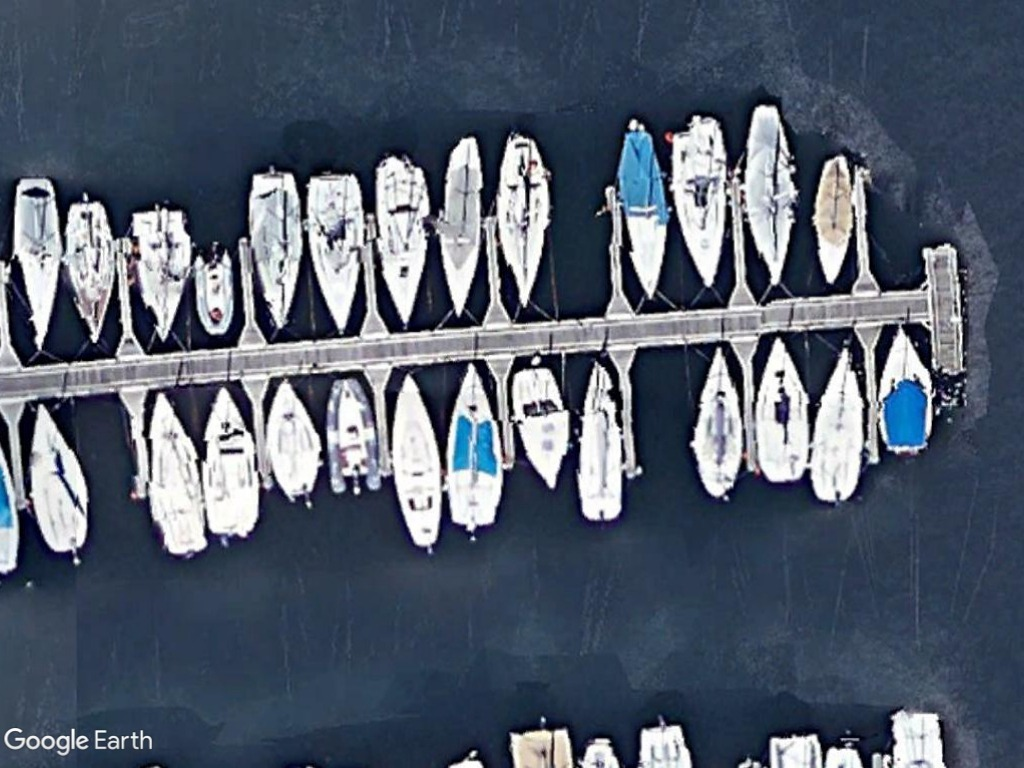boat: (667, 108, 733, 293), (491, 125, 554, 317), (364, 145, 429, 327), (24, 397, 95, 562), (739, 98, 799, 290), (430, 130, 487, 327), (303, 170, 370, 337), (613, 118, 673, 304), (243, 167, 307, 336), (444, 361, 507, 530), (148, 389, 211, 557), (803, 337, 863, 509), (387, 370, 443, 553), (201, 384, 266, 540), (10, 174, 64, 360), (58, 194, 120, 350), (127, 203, 191, 348), (576, 356, 626, 529), (689, 344, 743, 503), (755, 331, 810, 486), (872, 326, 936, 459), (260, 377, 321, 512), (506, 363, 566, 499), (323, 371, 380, 496), (808, 150, 855, 290), (191, 244, 240, 341)
